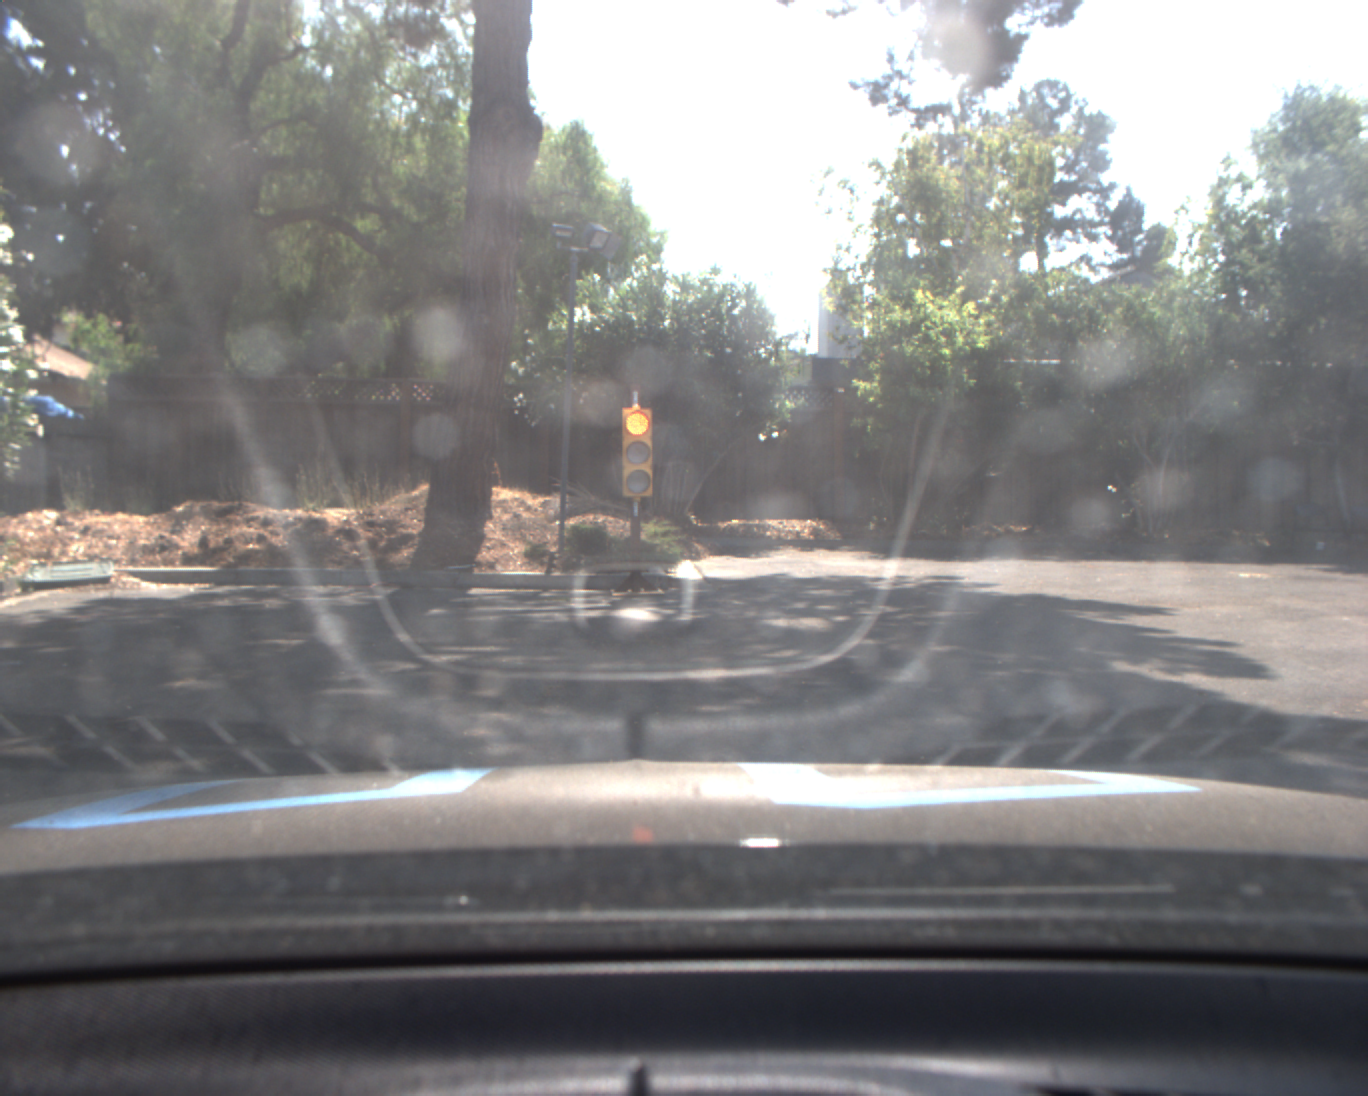red: (615, 401, 658, 498)
